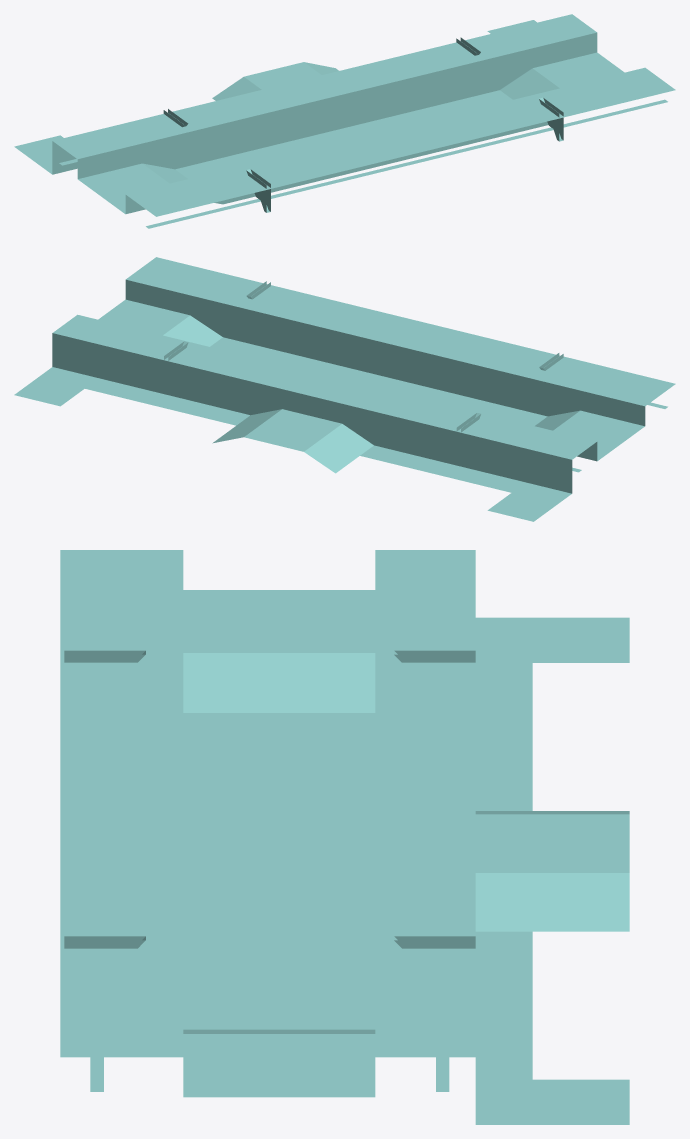
The model's file is TS2_Collider_Csd_TianHuaBan.FBX.
3 views of the same model, one above another, from view 1: azimuth 30°, elevation 25°; view 2: azimuth 150°, elevation 25°; view 3: azimuth 270°, elevation 25° (orthographic). The views are drawn at different scales.
Parts seen in each view (by area): view 1: Collider_Csd_TianHuaBan; view 2: Collider_Csd_TianHuaBan; view 3: Collider_Csd_TianHuaBan.
Boxes of the visible parts, left/top/right/bottom form: Collider_Csd_TianHuaBan: left=14, top=14, right=675, bottom=228; Collider_Csd_TianHuaBan: left=14, top=257, right=675, bottom=521; Collider_Csd_TianHuaBan: left=60, top=550, right=629, bottom=1124.
Size of the model in its own units: 18.76 by 1.31 by 8.89.
